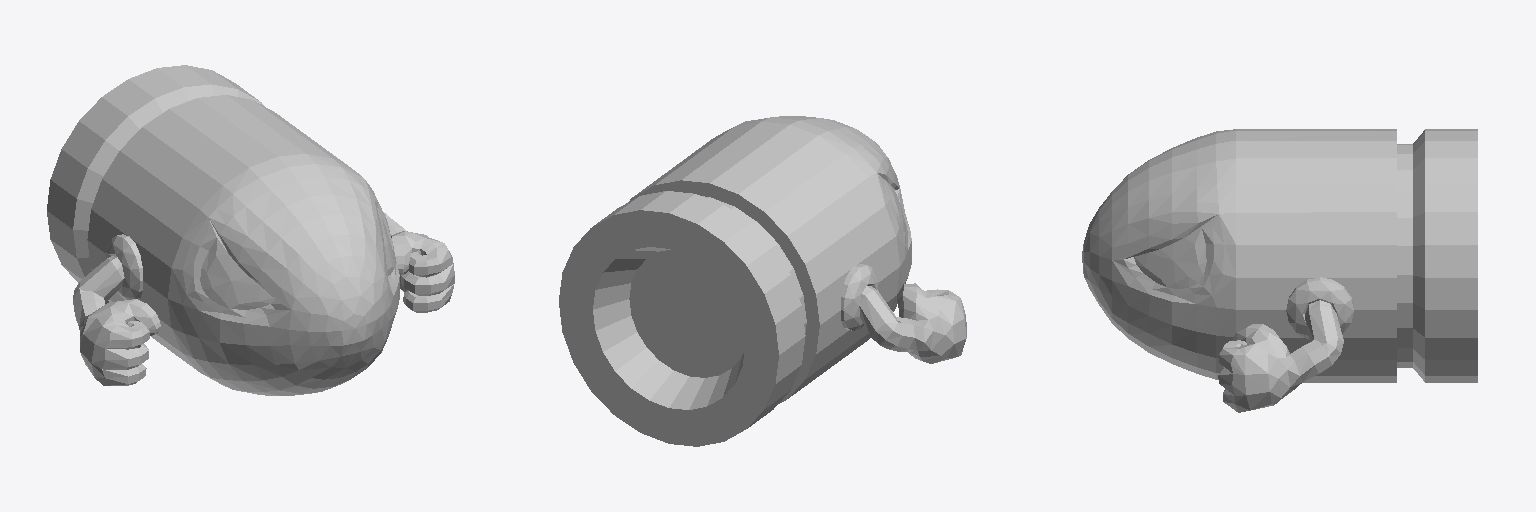
Rendered from ITEM_BULLET_BILL.OBJ.
3 views of the same model, side by side, from view 1: azimuth 30°, elevation 25°; view 2: azimuth 150°, elevation 25°; view 3: azimuth 270°, elevation 25° (orthographic).
Visible parts, largest first — view 1: polygon1.001, polygon3, polygon2.001; view 2: polygon1.001, polygon0.001, polygon3; view 3: polygon1.001, polygon3, polygon2.001.
Boxes of the visible parts, box(x1,y1,x2,y2) form: polygon1.001: box(47, 65, 399, 395); polygon3: box(73, 212, 454, 385); polygon2.001: box(200, 208, 394, 309); polygon1.001: box(559, 116, 911, 446); polygon0.001: box(629, 250, 744, 377); polygon3: box(841, 264, 966, 363); polygon1.001: box(1082, 129, 1477, 382); polygon3: box(1218, 277, 1353, 412); polygon2.001: box(1134, 228, 1206, 288).
Bounding box in the file's own units: 34.78 × 21.1 × 32.84.